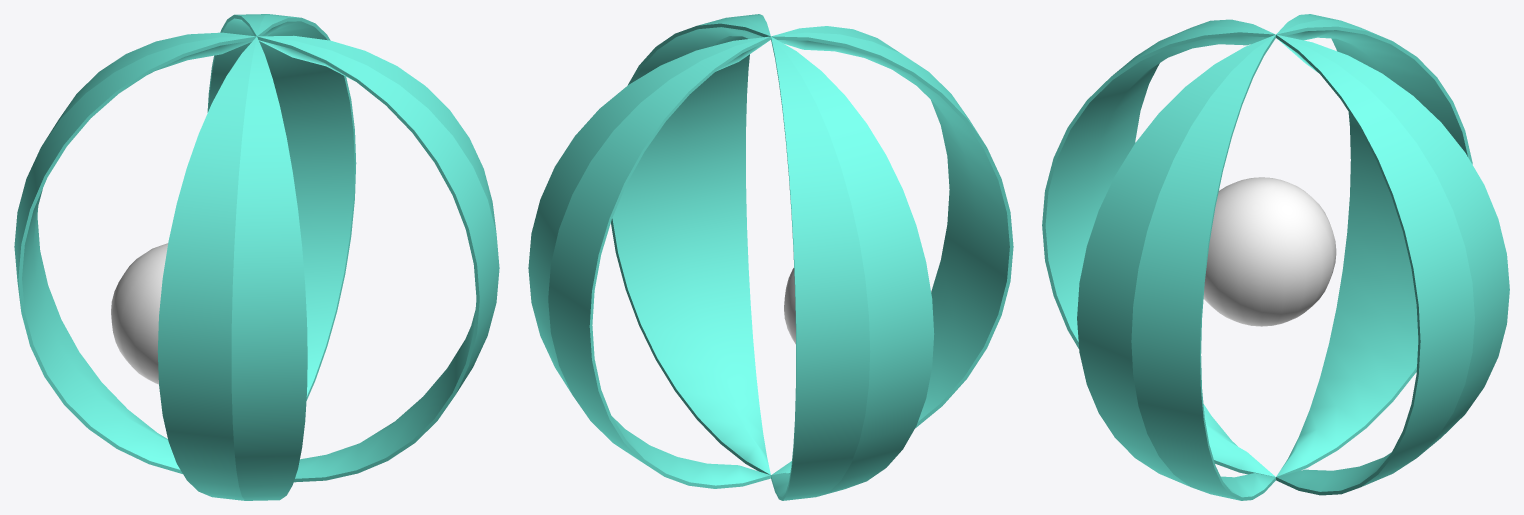
File: SoulPlant.fbx
The picture shows the model from 3 angles, left to right: view 1: azimuth 30°, elevation 25°; view 2: azimuth 150°, elevation 25°; view 3: azimuth 270°, elevation 25°; orthographic projection.
Parts seen in each view (by area): view 1: polySurface3, pSphere2; view 2: polySurface3, pSphere2; view 3: polySurface3, pSphere2.
Part boxes in pixels (<box>): polySurface3: <box>14,14,499,500</box>; pSphere2: <box>111,243,168,384</box>; polySurface3: <box>528,14,1013,500</box>; pSphere2: <box>784,268,795,344</box>; polySurface3: <box>1042,14,1509,500</box>; pSphere2: <box>1203,177,1336,326</box>.
Size of the model in its own units: 10.44 by 10.97 by 10.44.
